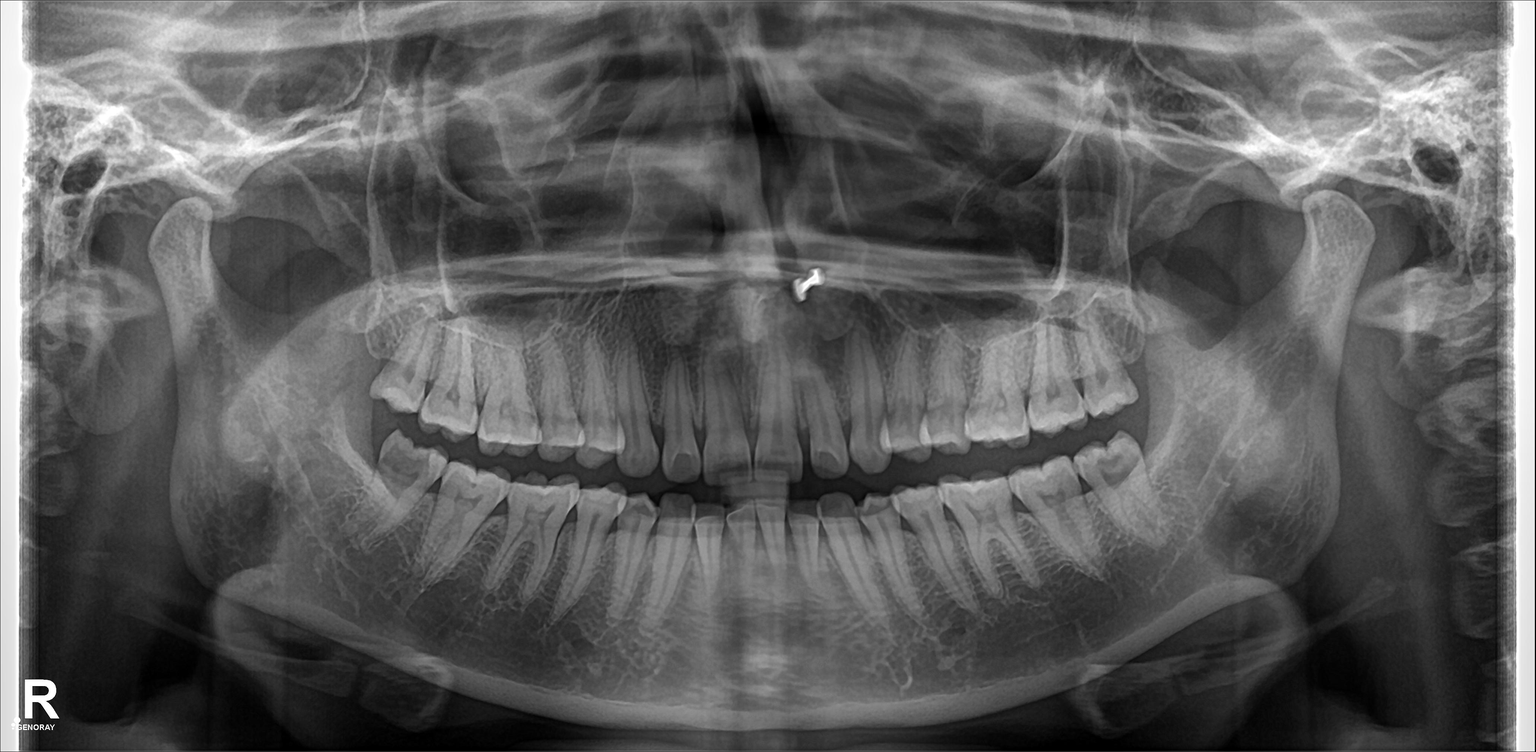Dental Caries: (376, 445, 431, 499), (663, 447, 697, 477)
Impacted Third Molar: (362, 432, 445, 547)
Missing Tooth: (339, 294, 386, 392)
